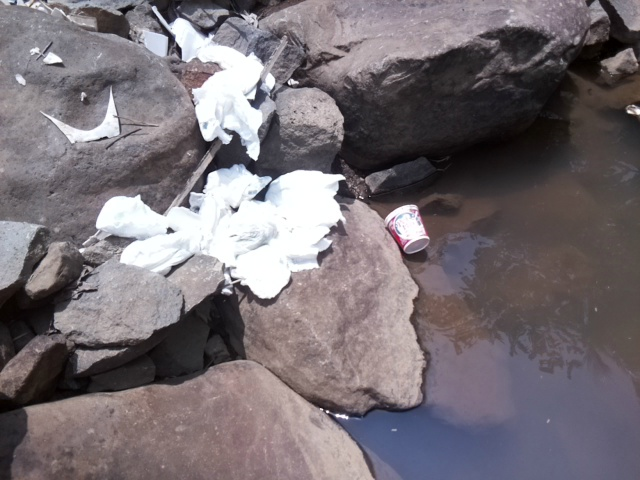Sampah_Plastik: (91, 162, 349, 300), (163, 13, 271, 161)
